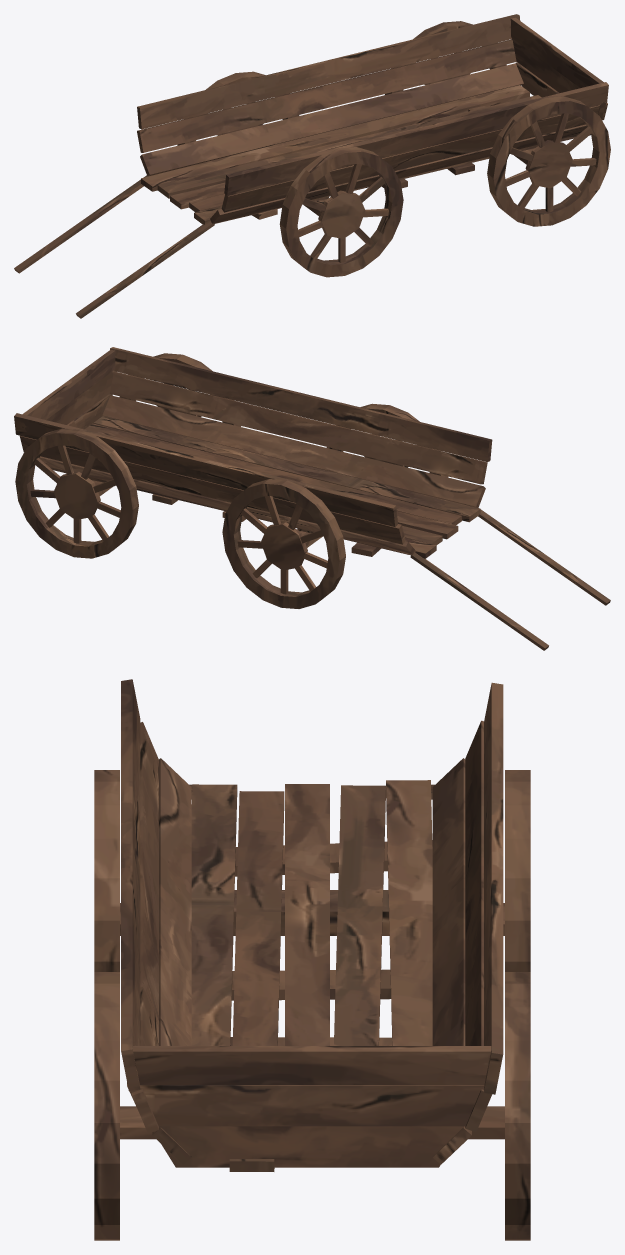
Rendered from Cart 2.fbx.
3 views of the same model, one above another, from view 1: azimuth 30°, elevation 25°; view 2: azimuth 150°, elevation 25°; view 3: azimuth 270°, elevation 25° (orthographic). The views are drawn at different scales.
Parts seen in each view (by area): view 1: Cart_2; view 2: Cart_2; view 3: Cart_2.
Boxes of the visible parts, <box> form: Cart_2: <box>14,14,610,318</box>; Cart_2: <box>14,347,610,650</box>; Cart_2: <box>94,679,530,1240</box>.
Size of the model in its own units: 3.51 by 0.7966 by 1.28.
